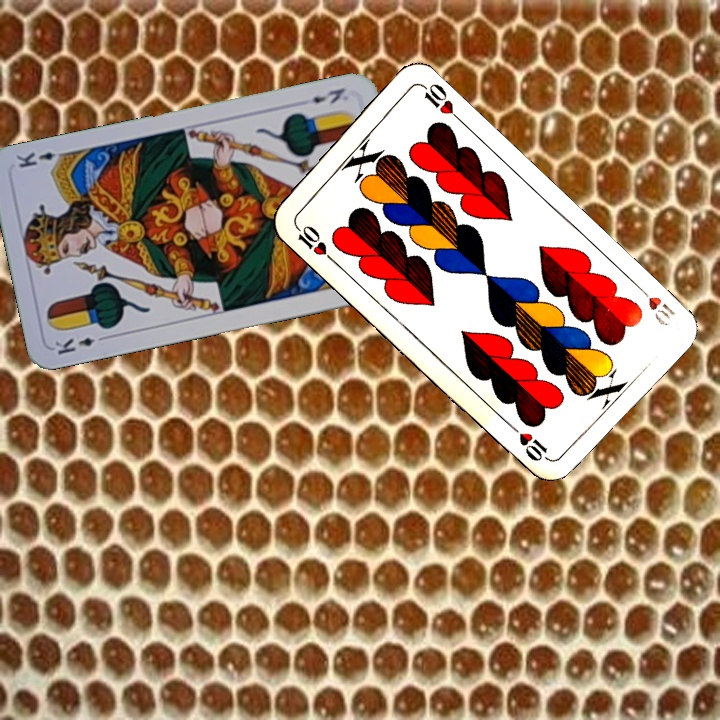EK: (50, 331, 110, 358), (307, 83, 348, 107)
H10: (631, 280, 677, 329), (290, 219, 337, 264)
